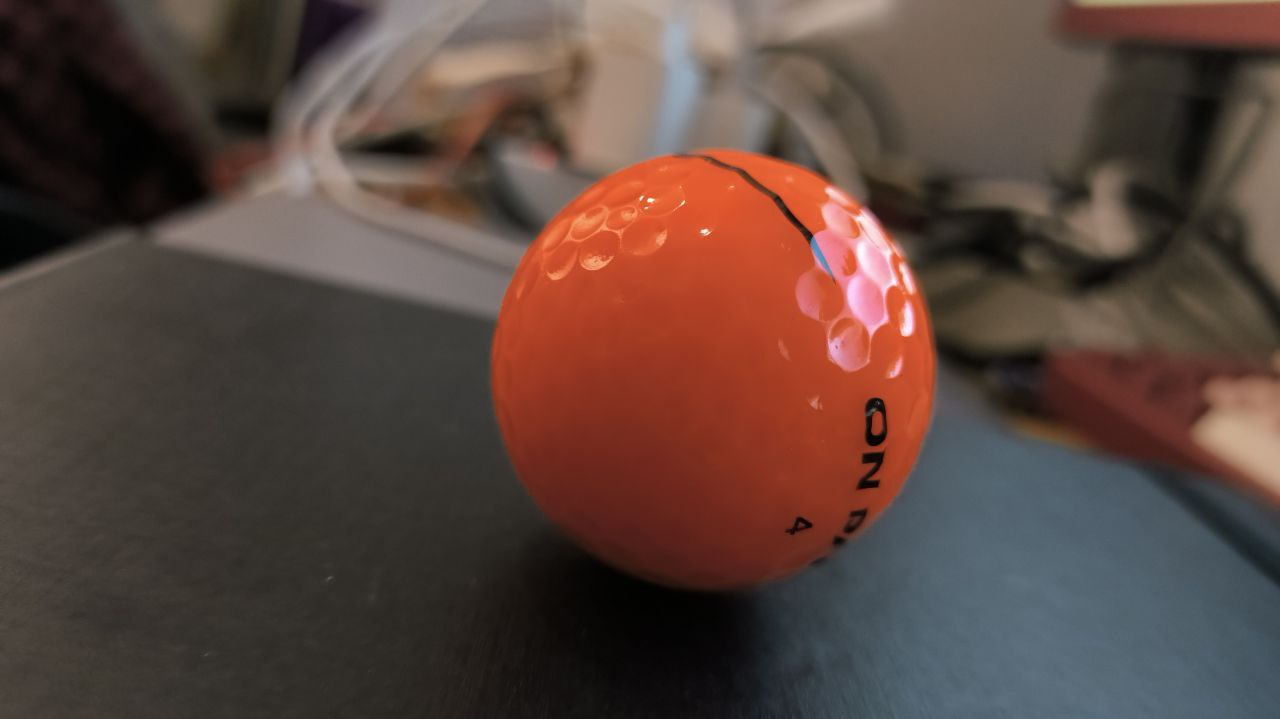orange_ball: (491, 147, 936, 590)
